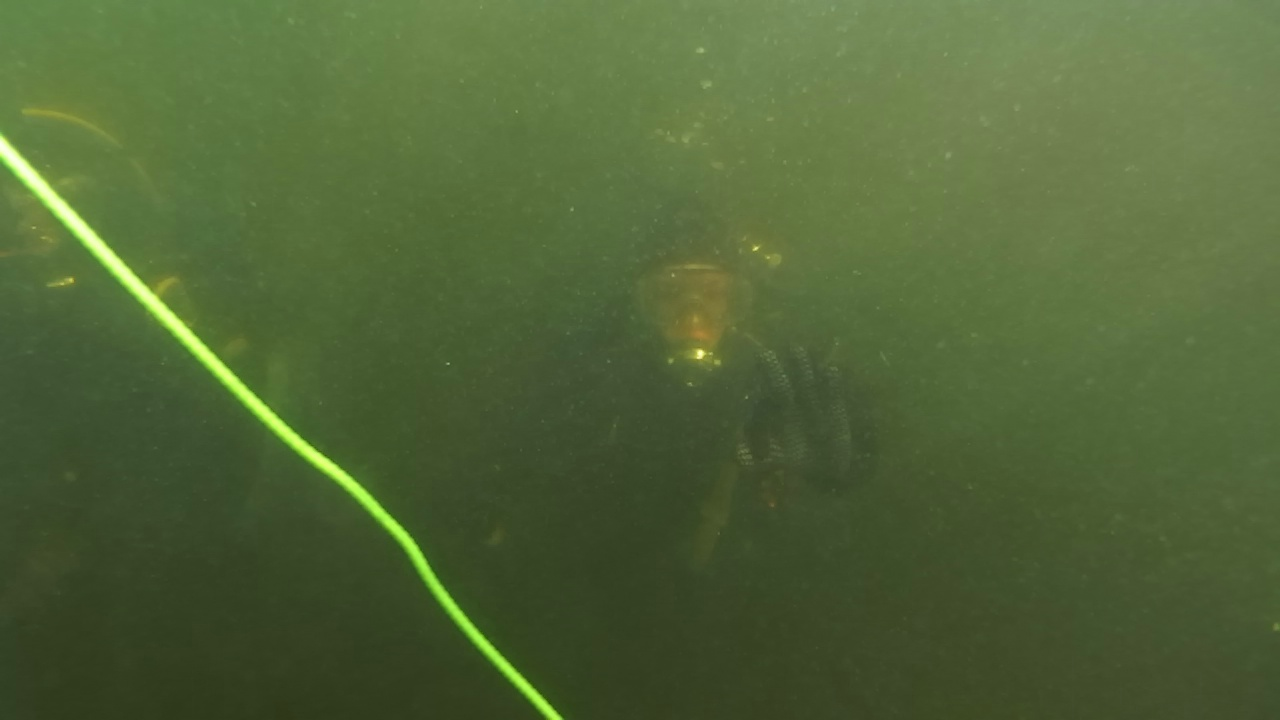Diver: (444, 190, 906, 600)
Hand: (730, 330, 886, 506)
Head: (616, 190, 748, 380)
